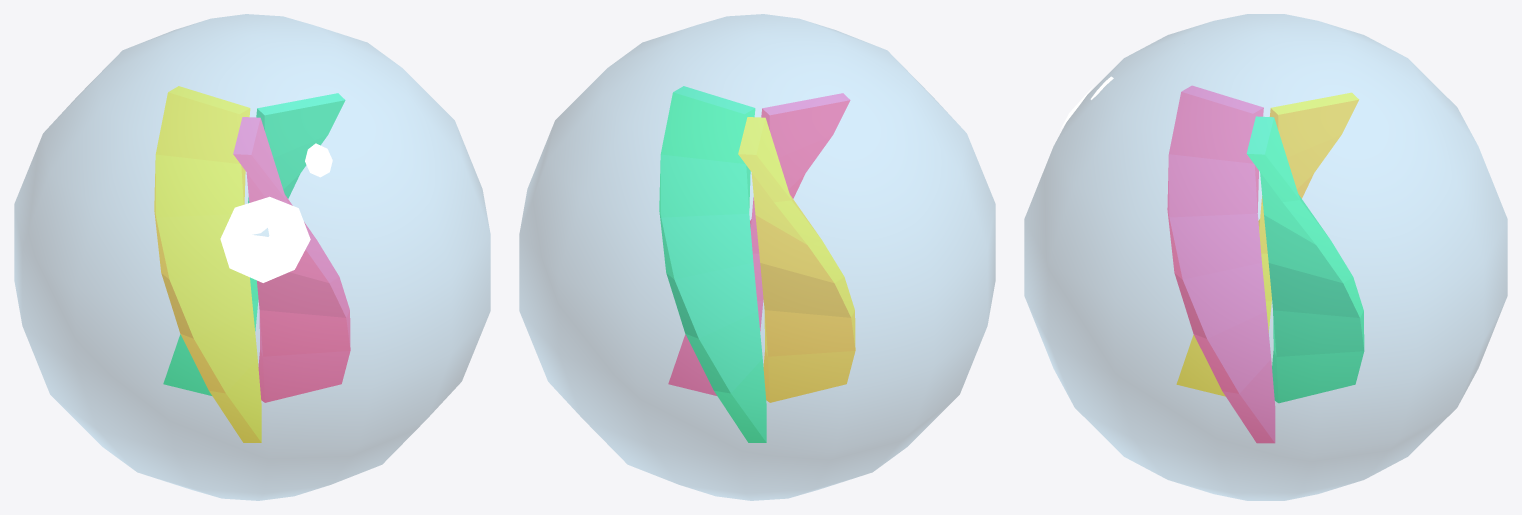
The model's file is record-marble.glb.
The picture shows the model from 3 angles, left to right: view 1: azimuth 30°, elevation 25°; view 2: azimuth 150°, elevation 25°; view 3: azimuth 270°, elevation 25°; orthographic projection.
Visible parts, largest first — view 1: record-marble; view 2: record-marble; view 3: record-marble.
Part boxes in pixels (x1,y1,x2,y2): record-marble: (14,14,490,500); record-marble: (519,14,995,500); record-marble: (1024,14,1507,500).
Bounding box in the file's own units: 1.54 × 1.6 × 1.58.
